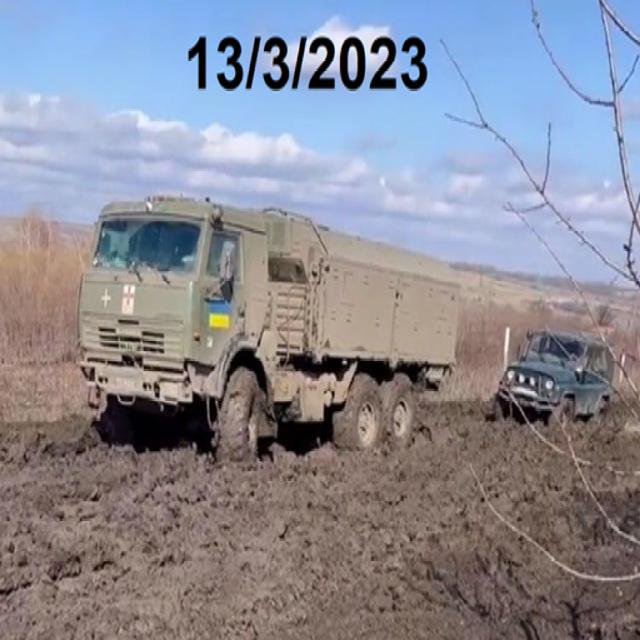CAR: (492, 316, 616, 434)
TRUCK: (72, 149, 456, 478)
